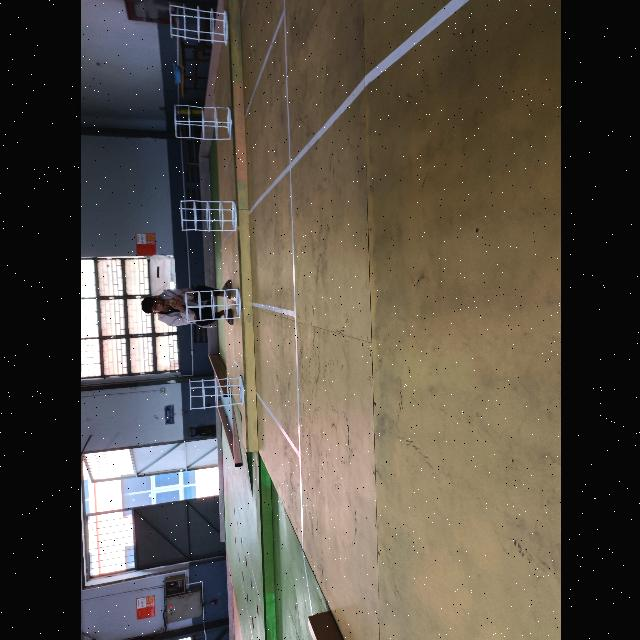S: (167, 1, 230, 46), (176, 197, 238, 239), (172, 102, 231, 143), (186, 374, 245, 411), (182, 287, 241, 324)
